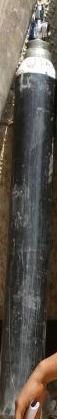cylinder: (1, 1, 57, 419)
